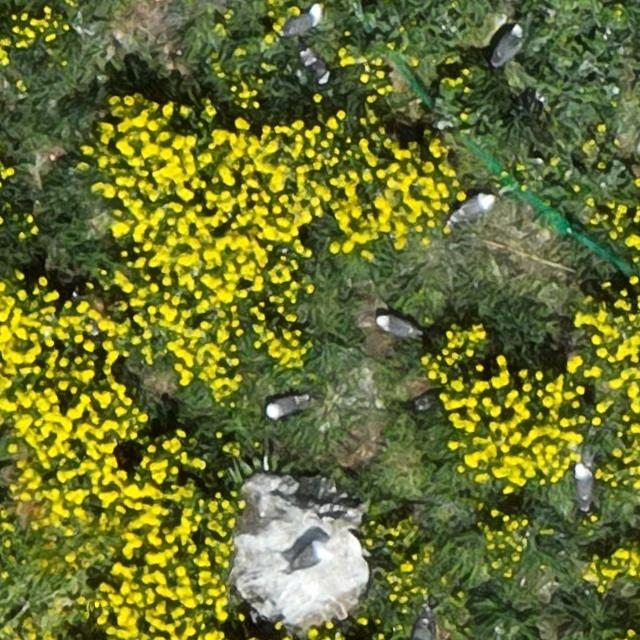umineko: (492, 29, 522, 66), (453, 194, 492, 218), (285, 10, 320, 34), (574, 464, 592, 508), (378, 315, 416, 335), (289, 545, 322, 567), (266, 396, 298, 418), (413, 614, 432, 640)
